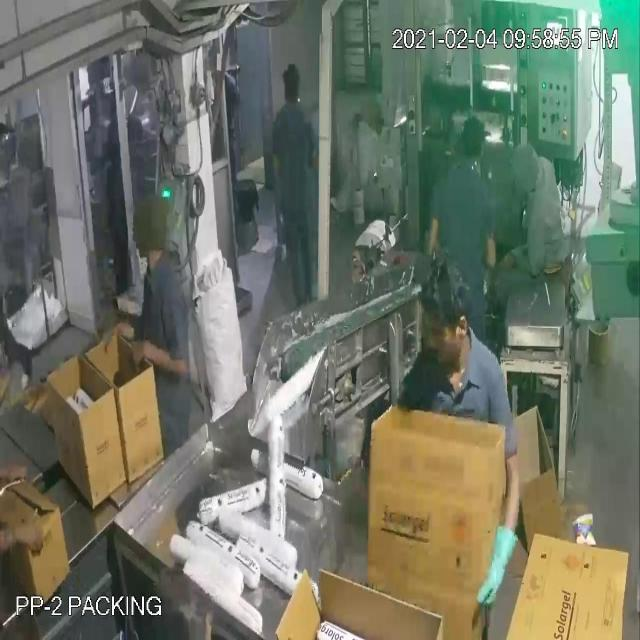No_Gloves: (17, 49, 502, 534)
